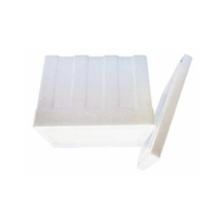foam_box: (25, 46, 197, 176), (29, 51, 159, 152), (133, 46, 197, 176)
